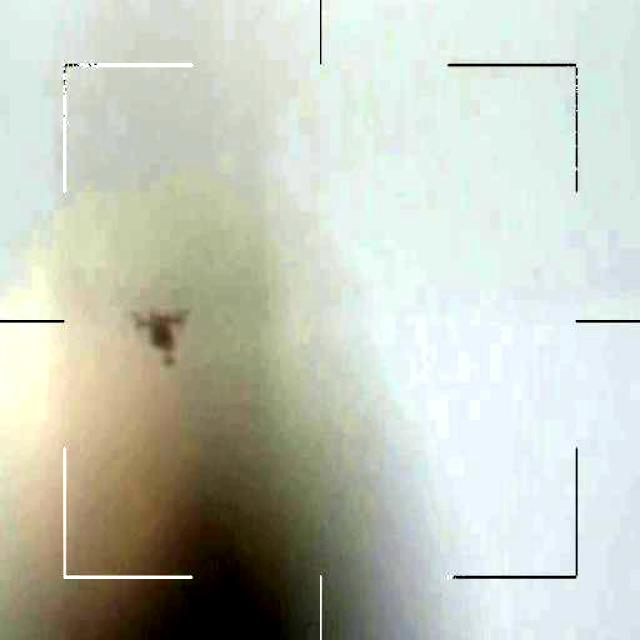bird: (119, 304, 176, 366)
